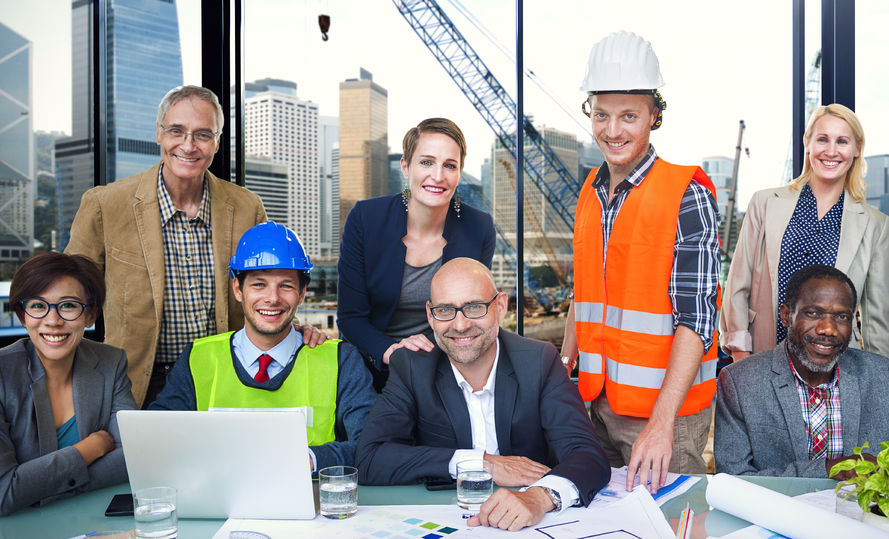NOTSAFE: (391, 265, 553, 474), (733, 265, 889, 466), (119, 80, 228, 328), (1, 254, 103, 498), (765, 102, 881, 262), (365, 114, 484, 261)
SAFE: (566, 27, 719, 395), (212, 231, 347, 460)
